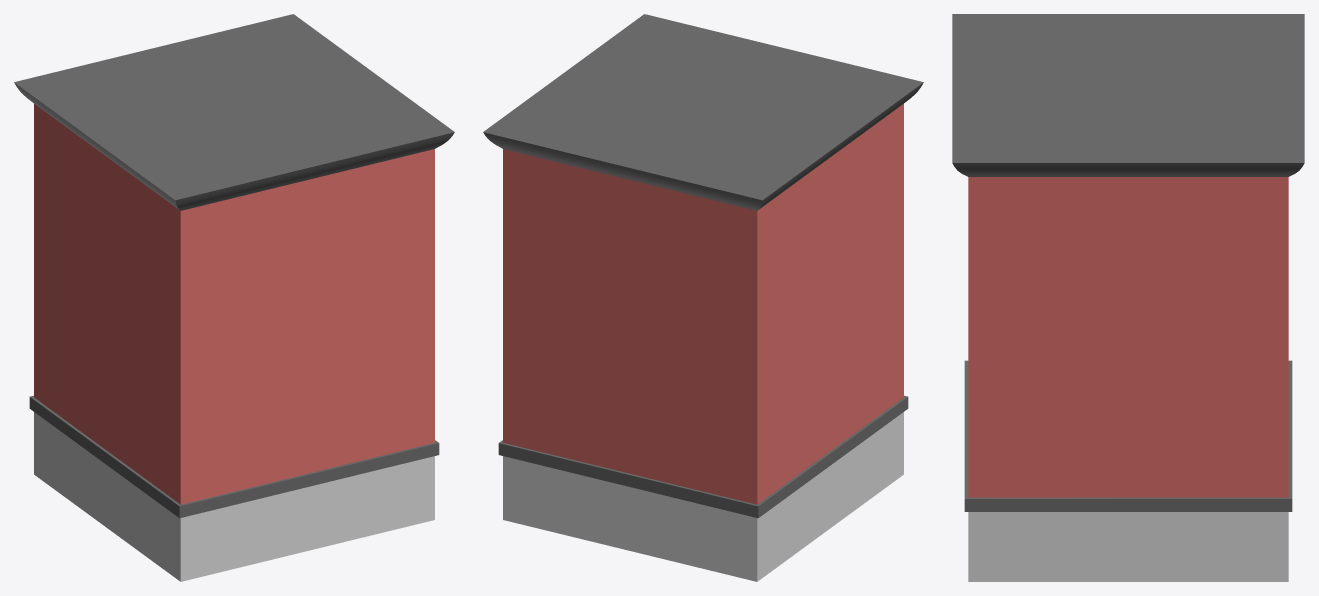
Rendered from building1.fbx.
3 renders of one model, left to right at view 1: azimuth 30°, elevation 25°; view 2: azimuth 150°, elevation 25°; view 3: azimuth 270°, elevation 25°, orthographic. The views are drawn at different scales.
Visible parts, largest first — view 1: Cube; view 2: Cube; view 3: Cube.
Part boxes in pixels (x1,y1,x2,y2): Cube: (14, 14, 454, 581); Cube: (483, 14, 923, 581); Cube: (952, 14, 1304, 581).
Size of the model in its own units: 1500 by 2000 by 1500.
